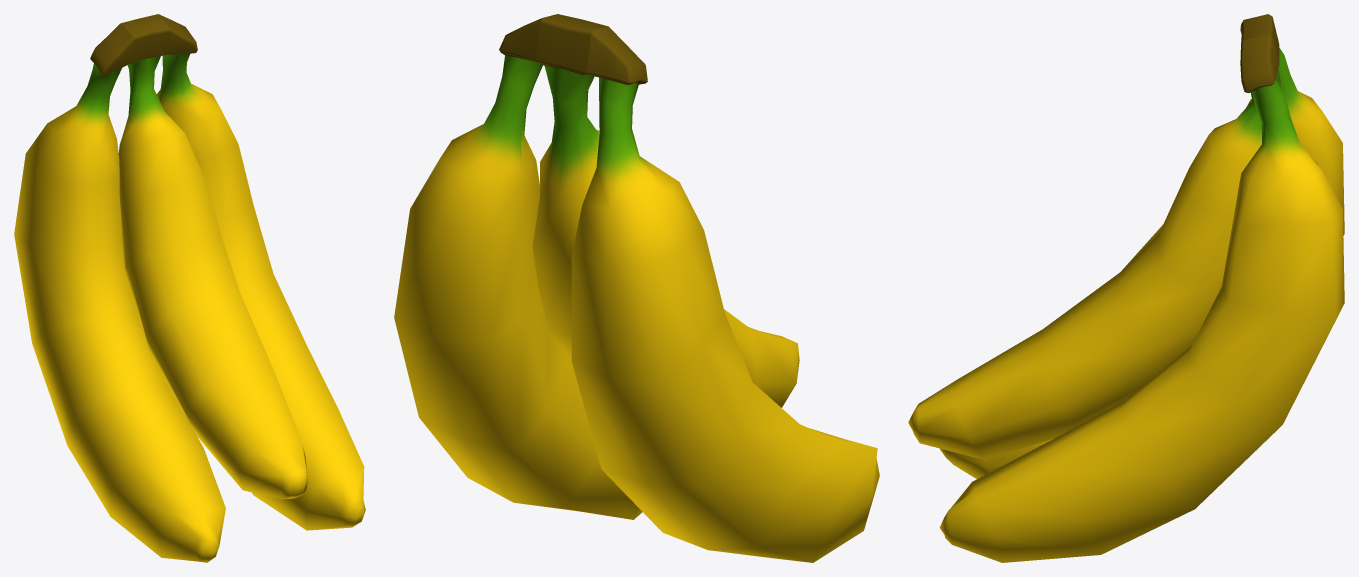
File: banana.fbx
3 renders of one model, left to right at view 1: azimuth 30°, elevation 25°; view 2: azimuth 150°, elevation 25°; view 3: azimuth 270°, elevation 25°, orthographic. The views are drawn at different scales.
Visible parts, largest first — view 1: polySurface4; view 2: polySurface4; view 3: polySurface4.
Part boxes in pixels (box(x1,y1,x2,y2)): polySurface4: box(14, 14, 365, 562); polySurface4: box(394, 14, 879, 562); polySurface4: box(908, 14, 1344, 562).
Bounding box in the file's own units: 7.36 × 13.36 × 10.75.
Materials: 1 (1 with a texture image).
